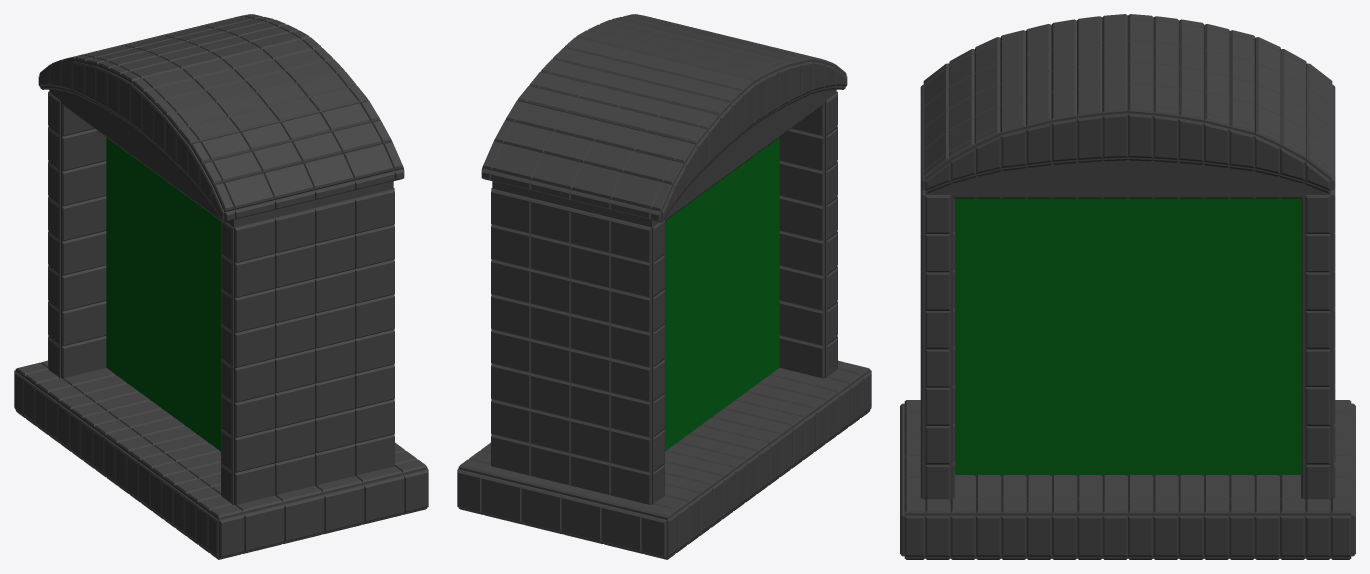
Rendered from Window.fbx.
3 views of the same model, side by side, from view 1: azimuth 30°, elevation 25°; view 2: azimuth 150°, elevation 25°; view 3: azimuth 270°, elevation 25° (orthographic). The views are drawn at different scales.
Visible parts, largest first — view 1: Cube; view 2: Cube; view 3: Cube.
Boxes of the visible parts, bbox=[...] form: Cube: bbox=[14, 14, 428, 559]; Cube: bbox=[457, 14, 871, 559]; Cube: bbox=[900, 14, 1355, 559].
Bounding box in the file's own units: 133 × 241 × 225.
